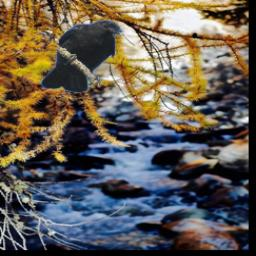Crow: (40, 20, 124, 92)
